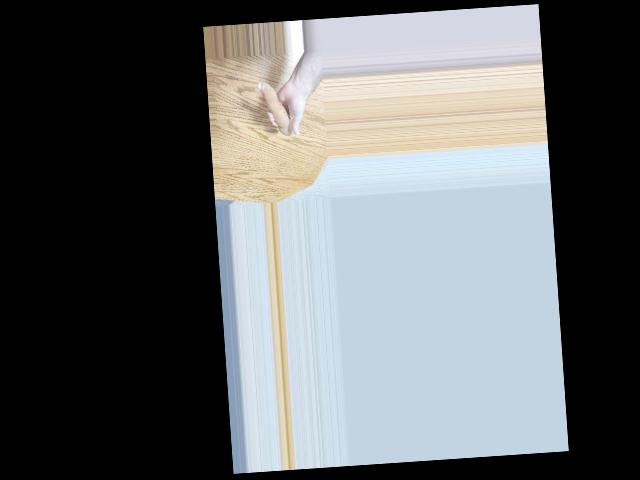sweet_potato: (258, 79, 291, 140)
